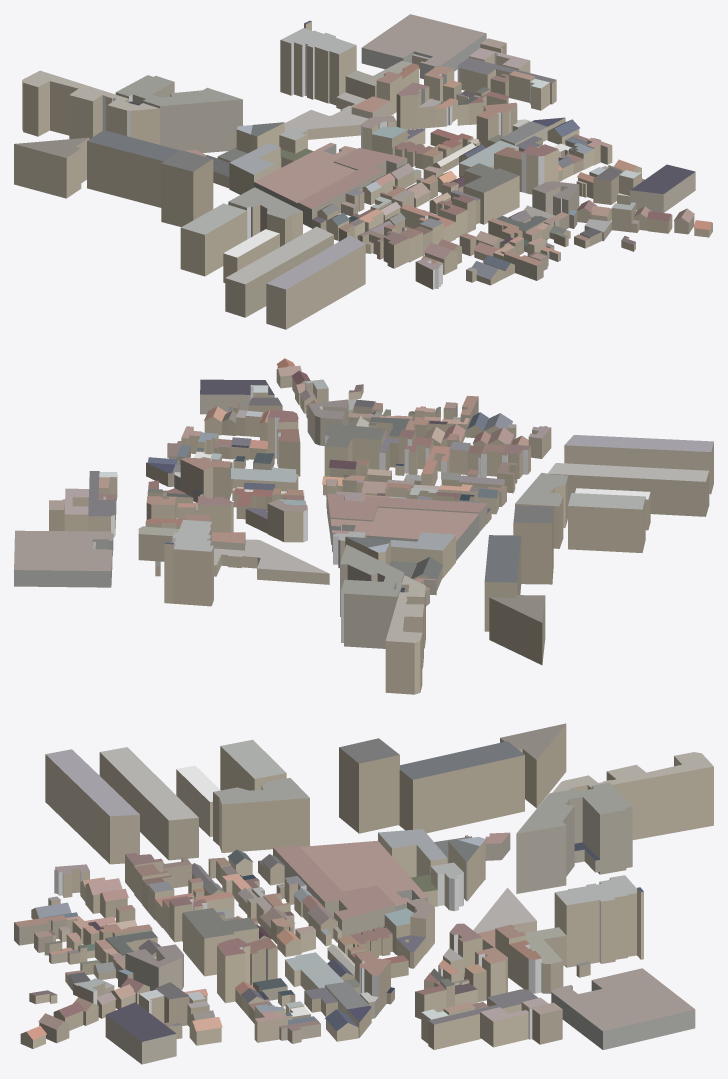
3 renders of one model, top to bottom at view 1: azimuth 30°, elevation 25°; view 2: azimuth 150°, elevation 25°; view 3: azimuth 270°, elevation 25°, orthographic. The views are drawn at different scales.
Parts seen in each view (by area): view 1: tuile; view 2: tuile; view 3: tuile.
Boxes of the visible parts, x1=… form: tuile: x1=14, y1=14, x2=712, y2=329; tuile: x1=14, y1=358, x2=713, y2=694; tuile: x1=14, y1=723, x2=713, y2=1064.
Bounding box in the file's own units: 278 × 33.71 × 280.
